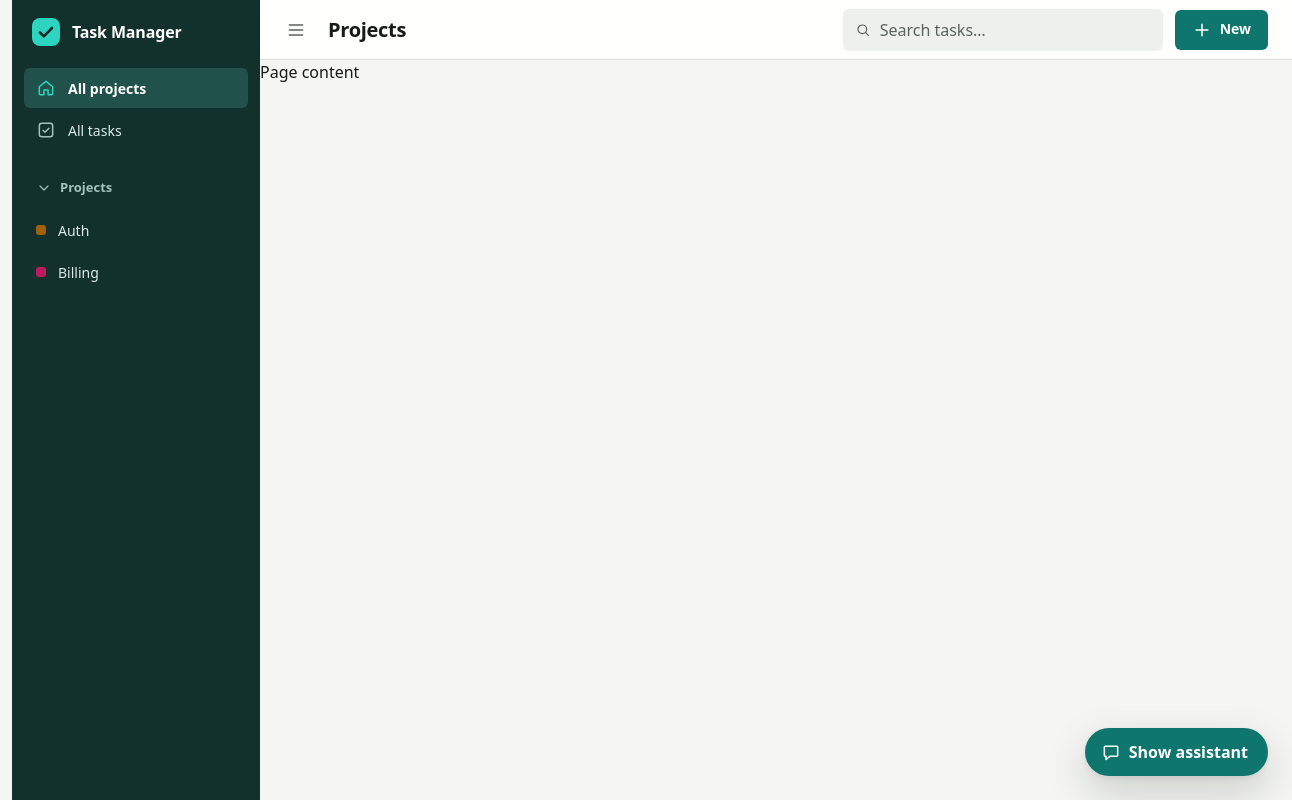
Test: Sidebar toggle › collapses the sidebar on desktop and remembers it
What coordinates should you click on to do the following:
click the button named "Hide sidebar"
I would click on:
 (296, 30)
Its box is x1=276 y1=10 x2=316 y2=50.
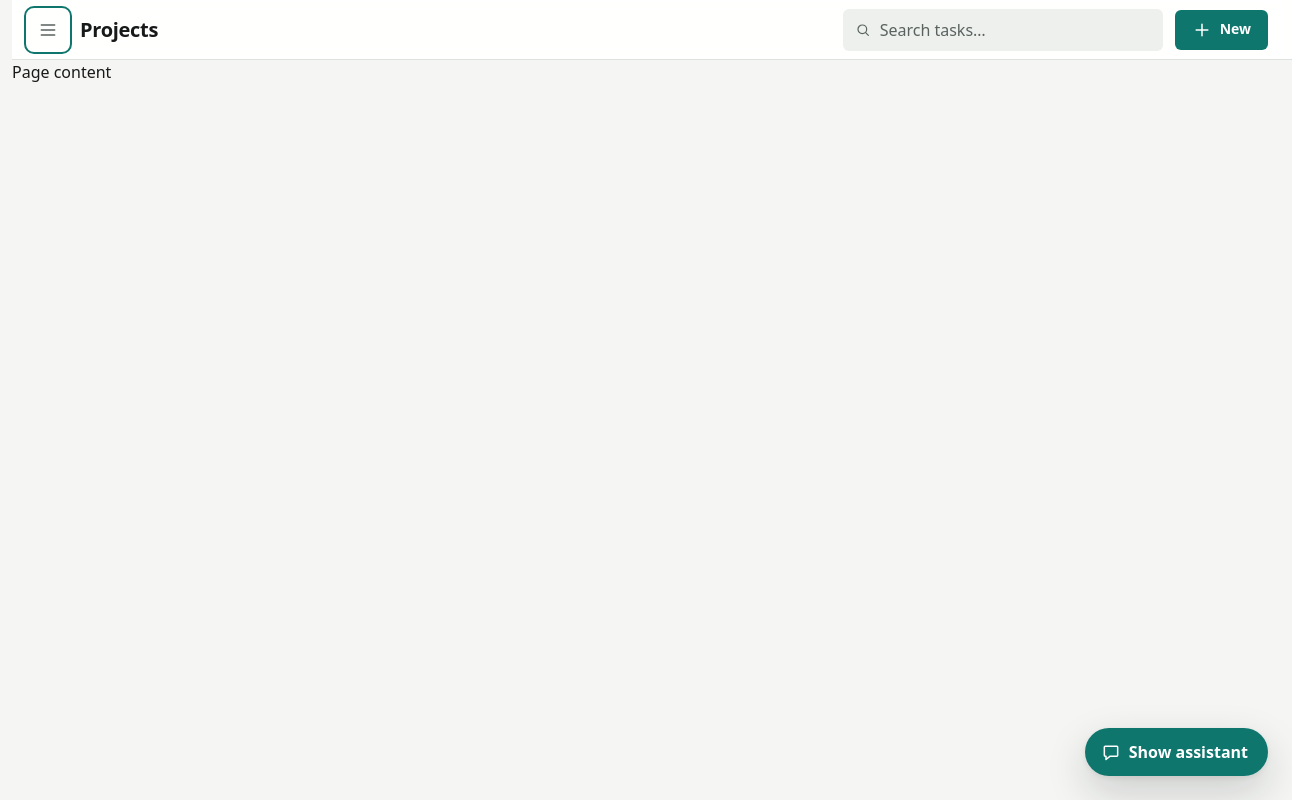
Expected: the button named "Show sidebar" is collapsed, x1=28 y1=10 x2=68 y2=50
